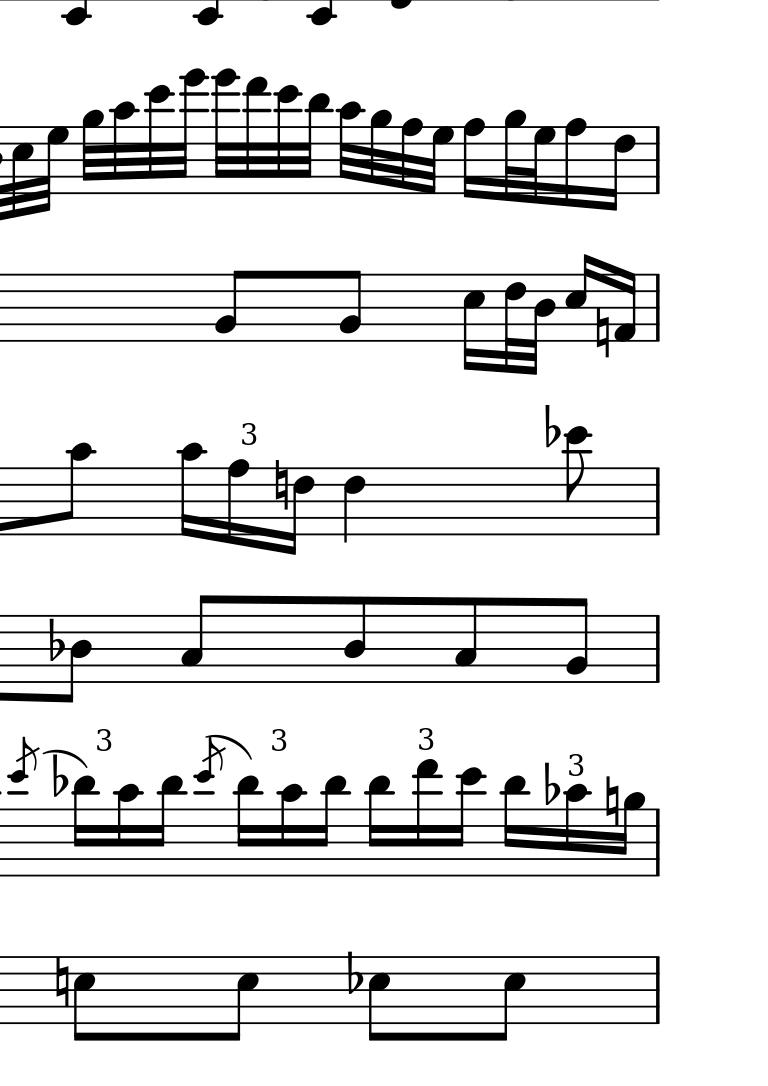16_1: (615, 270, 637, 343)
16_10: (175, 442, 208, 541), (111, 782, 145, 877), (561, 782, 592, 880), (275, 783, 307, 877)
16_11: (152, 775, 187, 878), (316, 775, 351, 877), (497, 775, 531, 878), (232, 775, 264, 878), (363, 774, 394, 878), (70, 775, 100, 876)
16_12: (449, 766, 488, 879)
16_13: (411, 759, 444, 878)
16_5: (565, 253, 595, 342), (462, 273, 486, 372)
16_6: (285, 466, 316, 557), (605, 126, 637, 212)
16_8: (561, 117, 588, 208), (461, 116, 487, 199), (226, 459, 250, 548)
16_9: (615, 791, 647, 880)
3: (94, 726, 113, 754), (268, 727, 288, 753), (566, 752, 584, 779), (240, 422, 257, 448), (417, 726, 434, 752)
32_10: (335, 101, 366, 197), (108, 100, 138, 196)
32_11: (240, 76, 270, 196), (302, 93, 333, 196)
32_12: (142, 84, 176, 196), (272, 84, 302, 197)
32_14: (173, 69, 210, 196), (210, 68, 239, 197)
32_4: (528, 273, 560, 376)
32_5: (9, 125, 33, 221)
32_6: (503, 272, 527, 375)
32_7: (33, 125, 69, 213), (527, 124, 556, 207), (423, 125, 454, 196)
32_8: (399, 117, 422, 197)
32_9: (502, 109, 527, 203), (367, 109, 393, 196), (80, 109, 105, 196)
4_6: (343, 466, 365, 542)
8_10: (60, 441, 98, 537)
8_12: (561, 426, 593, 537)
8_2: (214, 269, 250, 344), (565, 596, 589, 684), (339, 269, 363, 343)
8_3: (180, 595, 214, 684), (454, 596, 479, 684)
8_4: (62, 614, 91, 704), (341, 596, 367, 684)
8_5: (495, 954, 527, 1043), (227, 956, 260, 1042), (366, 955, 391, 1043), (73, 955, 95, 1041)
Acciaccature: (193, 737, 224, 876)
Flat: (539, 400, 560, 450), (540, 757, 560, 809), (49, 753, 68, 799), (46, 618, 64, 664), (345, 950, 363, 995)
Natural: (604, 774, 621, 829), (53, 956, 69, 1010), (595, 308, 611, 358), (274, 460, 289, 510)
Single_barline: (647, 467, 666, 536), (647, 956, 666, 1024), (647, 616, 666, 683), (648, 273, 666, 342), (649, 126, 666, 196), (648, 810, 666, 876)
Slur: (205, 733, 255, 761), (43, 746, 89, 769)
